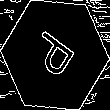P_SE: (27, 26, 83, 84)
